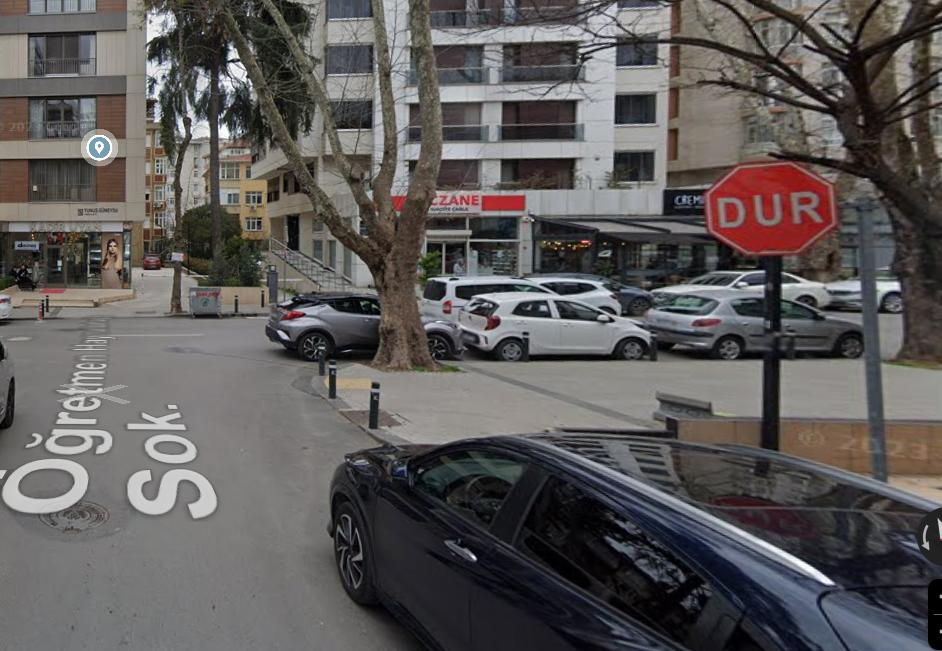stop: (707, 163, 841, 254)
